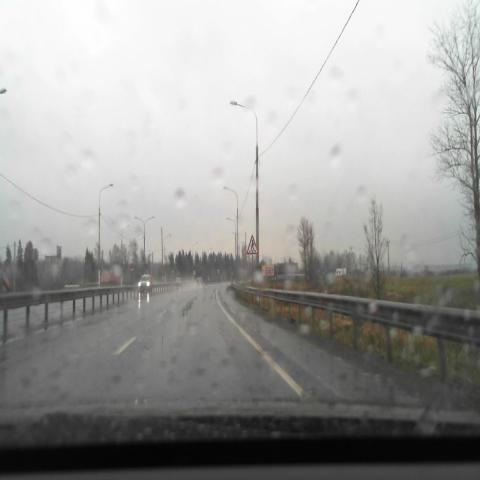1_22: (246, 235, 258, 254)
